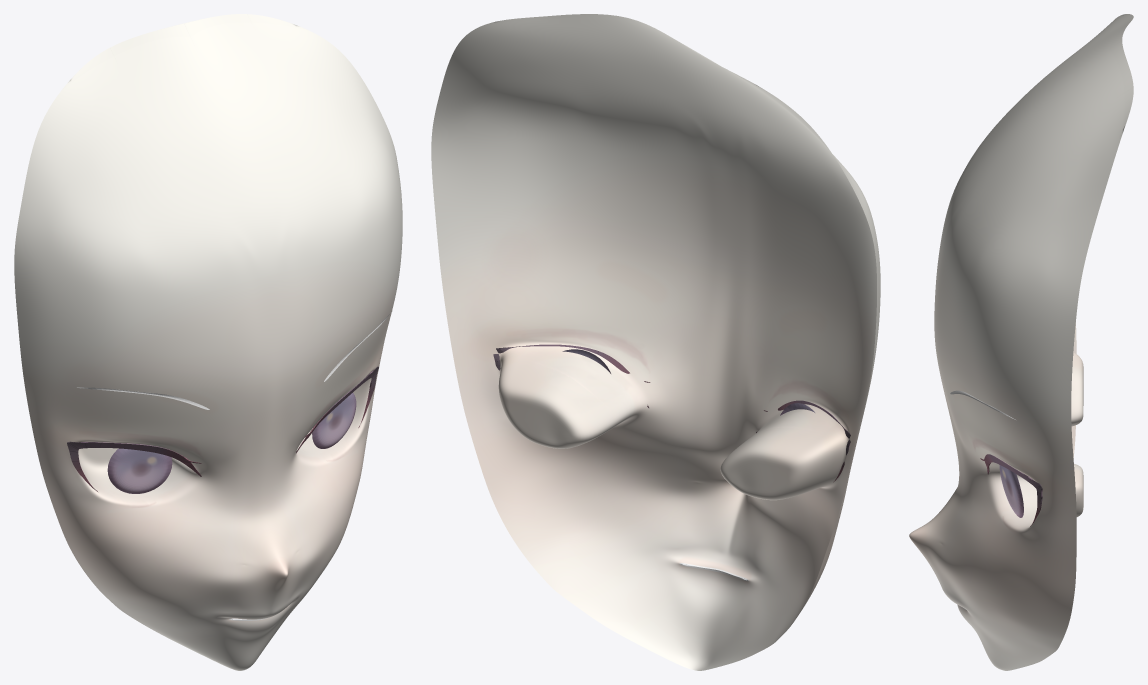
The model's file is armeria.glb.
3 renders of one model, left to right at view 1: azimuth 30°, elevation 25°; view 2: azimuth 150°, elevation 25°; view 3: azimuth 270°, elevation 25°, orthographic. The views are drawn at different scales.
Parts seen in each view (by area): view 1: head, eye, eyeLashes, eyeBrow; view 2: head, eyeLashes; view 3: head, eye, eyeLashes.
Boxes of the visible parts, x1=… form: head: x1=14, y1=14, x2=402, y2=670; eye: x1=107, y1=393, x2=356, y2=493; eyeLashes: x1=67, y1=366, x2=378, y2=491; eyeBrow: x1=77, y1=311, x2=392, y2=409; head: x1=431, y1=14, x2=880, y2=670; eyeLashes: x1=493, y1=344, x2=850, y2=482; head: x1=909, y1=14, x2=1133, y2=670; eye: x1=999, y1=465, x2=1023, y2=517; eyeLashes: x1=980, y1=454, x2=1042, y2=526.
Bounding box in the file's own units: 0.3397 × 0.5108 × 0.1651.
Materials: 5 (3 with a texture image).
